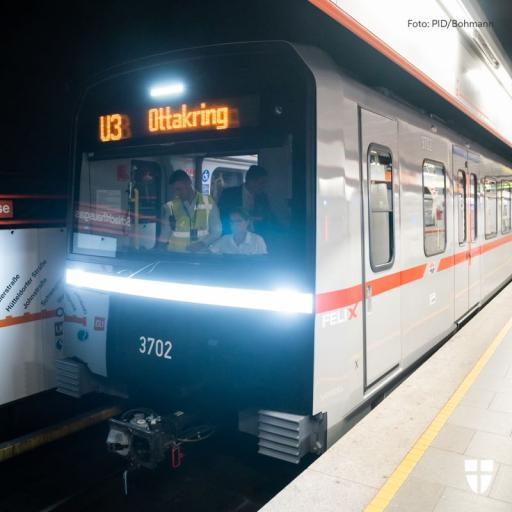X-Wagen: (52, 32, 512, 456)
